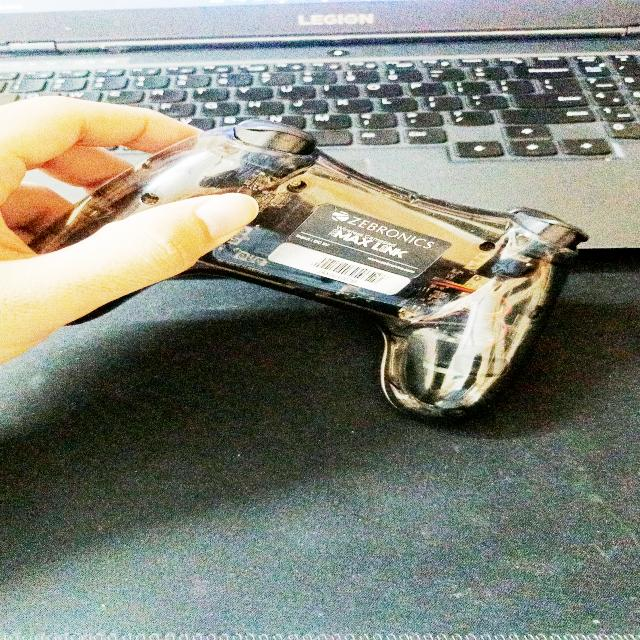gamepad: (28, 119, 590, 421)
